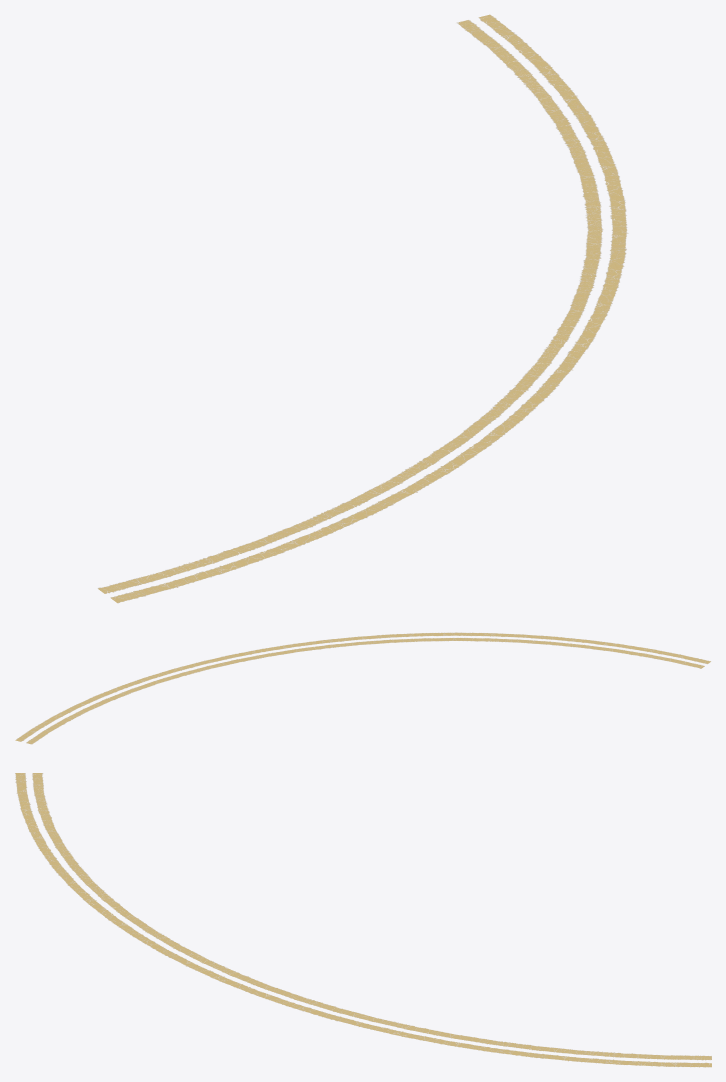
The model's file is Decal_Curve_4LaneShort_DoubleYellow.glb.
3 renders of one model, top to bottom at view 1: azimuth 30°, elevation 25°; view 2: azimuth 150°, elevation 25°; view 3: azimuth 270°, elevation 25°, orthographic. The views are drawn at different scales.
Parts seen in each view (by area): view 1: Decal_Curve_4LaneShort_DoubleYellow; view 2: Decal_Curve_4LaneShort_DoubleYellow; view 3: Decal_Curve_4LaneShort_DoubleYellow.
Part boxes in pixels (bbox=[...]): Decal_Curve_4LaneShort_DoubleYellow: bbox=[98, 14, 627, 602]; Decal_Curve_4LaneShort_DoubleYellow: bbox=[15, 632, 710, 743]; Decal_Curve_4LaneShort_DoubleYellow: bbox=[15, 773, 711, 1067].
Bounding box in the file's own units: 9.2 × 0 × 9.2.
1 material, 1 textured.
